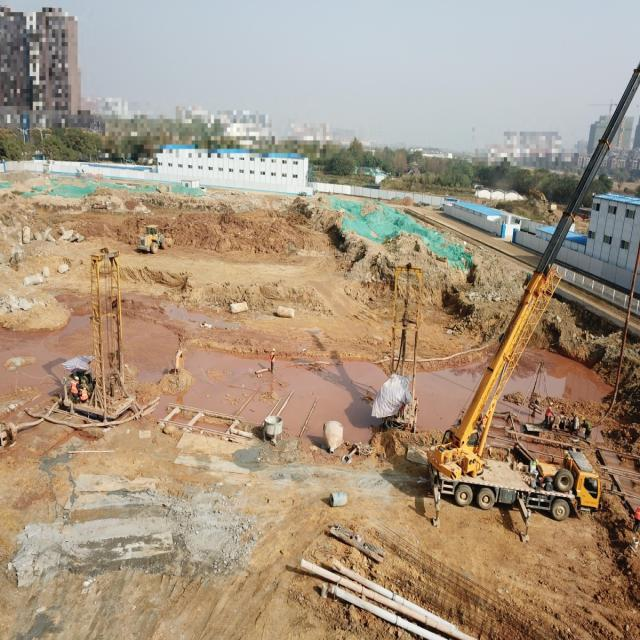crane: (426, 61, 640, 543)
excavator: (529, 188, 556, 211)
machinery: (137, 223, 172, 254)
